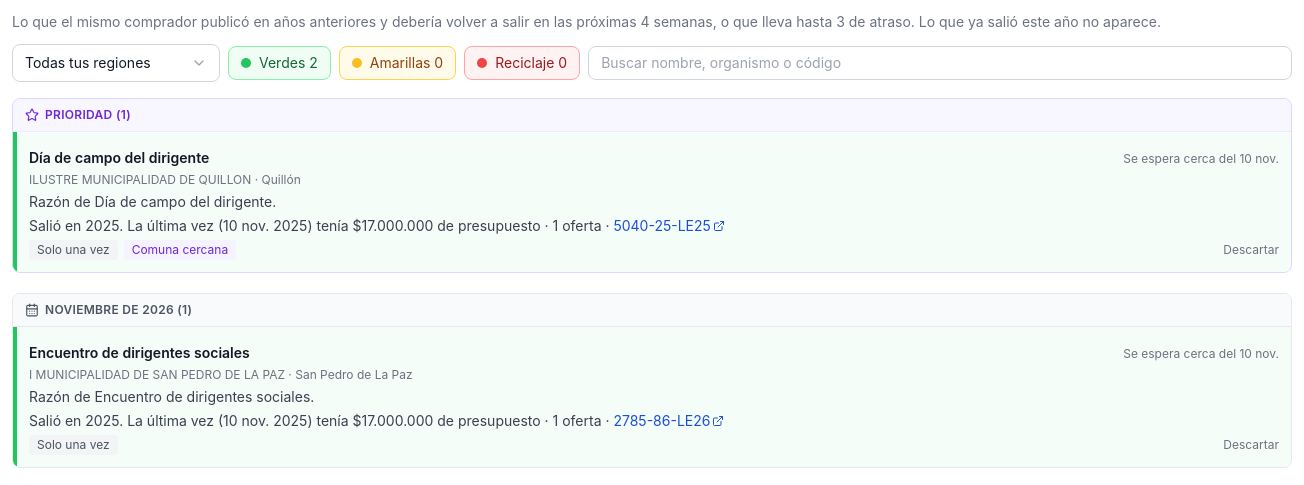
Test: Se viene con el semáforo › como la bandeja: la prioridad en su recuadro arriba, el resto por mes, y la región
Check: the text "Día de campo del dirigente" is shown, box [29,148,209,168]
Check: the heading "Prioridad (1)" is shown, box [13,99,1291,132]
// La región, como en la bandeja.
Click the button "Todas tus regiones". click: (116, 63)
box: [12,44,220,82]
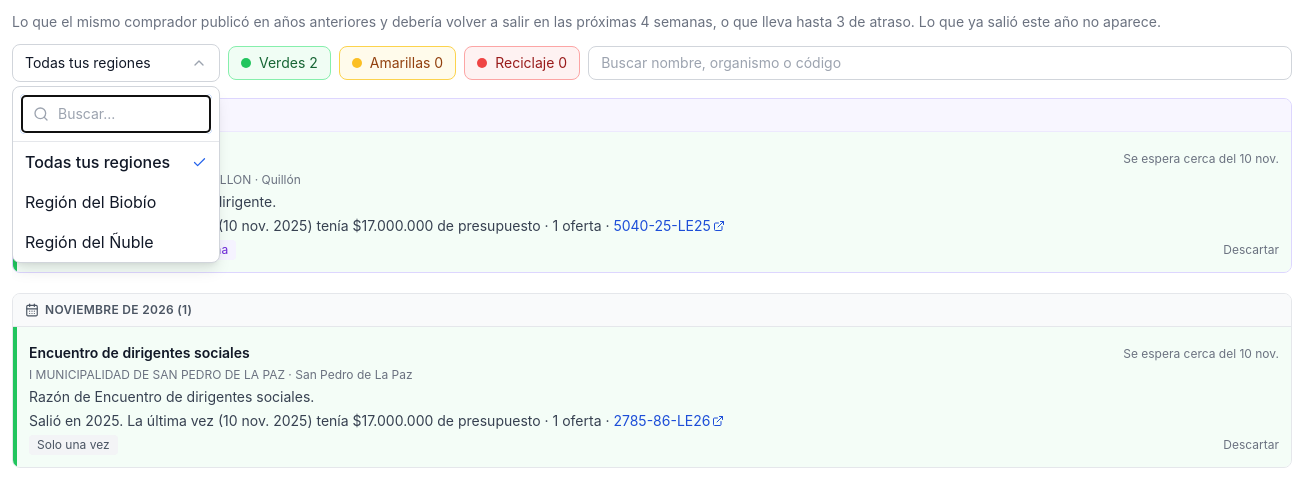
Click the button "Región del Biobío". click: (116, 202)
box: [13,182,219,222]
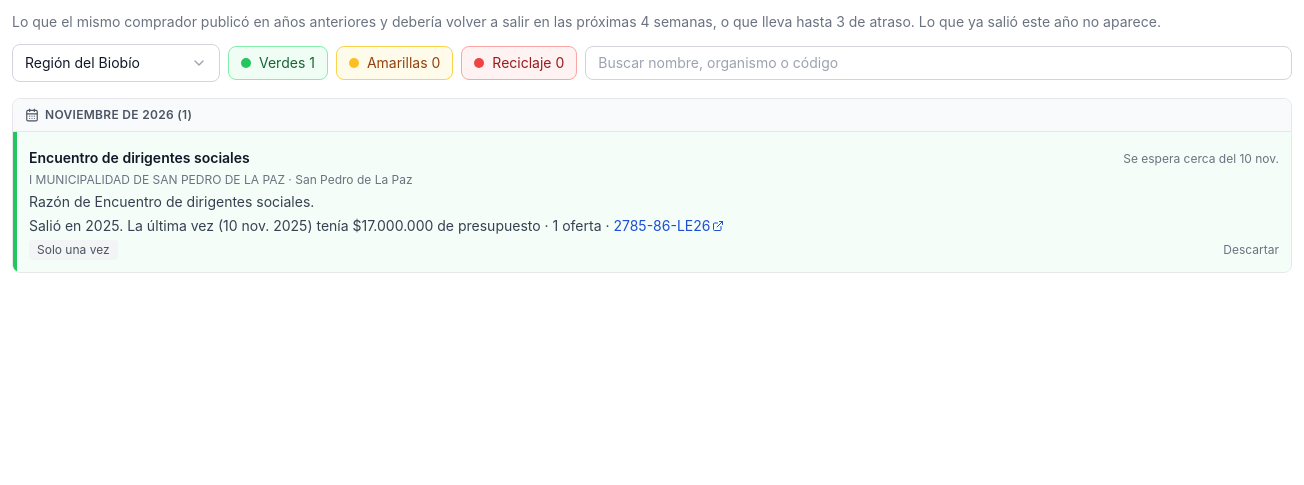
Check: the text "Encuentro de dirigentes sociales" is shown, box [29,148,250,168]
Check: the text "Día de campo del dirigente" is gone
